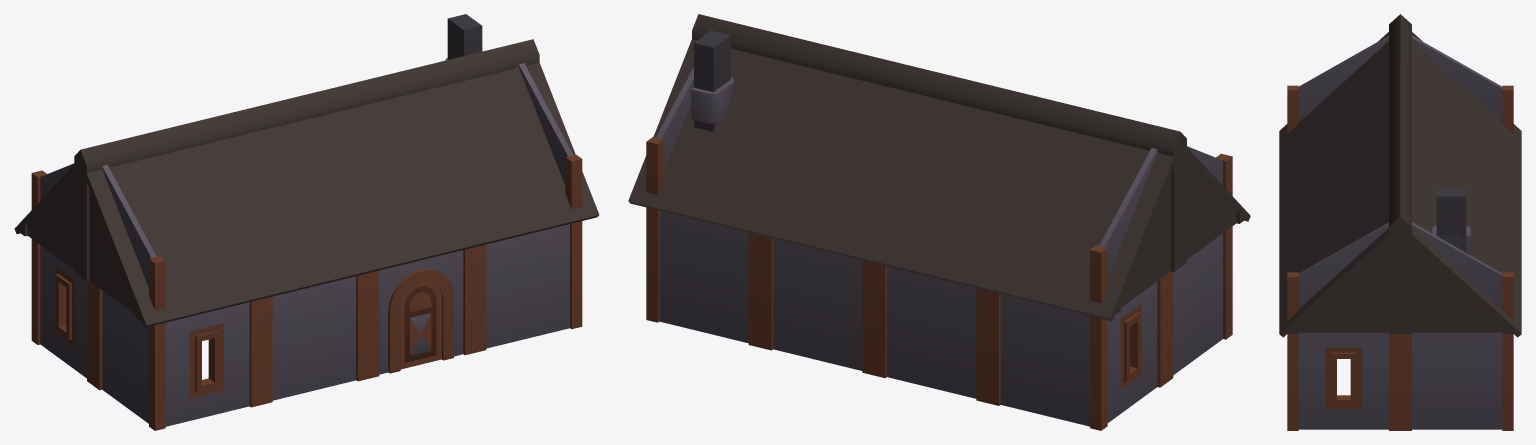
File: maison-volcan-2.glb
The picture shows the model from 3 angles, left to right: view 1: azimuth 30°, elevation 25°; view 2: azimuth 150°, elevation 25°; view 3: azimuth 270°, elevation 25°; orthographic projection. The views are drawn at different scales.
Parts seen in each view (by area): view 1: roof-high, wall-window-small; view 2: roof-high, wall-window-small; view 3: roof-high, wall-window-small.
Part boxes in pixels (<box>): roof-high: <box>14,39,599,327</box>; wall-window-small: <box>31,14,582,430</box>; roof-high: <box>628,14,1250,320</box>; wall-window-small: <box>646,30,1232,430</box>; roof-high: <box>1279,14,1521,337</box>; wall-window-small: <box>1287,35,1513,430</box>.
Size of the model in its own units: 12.72 by 6.6 by 6.42.
Materials: 2 (1 with a texture image).
